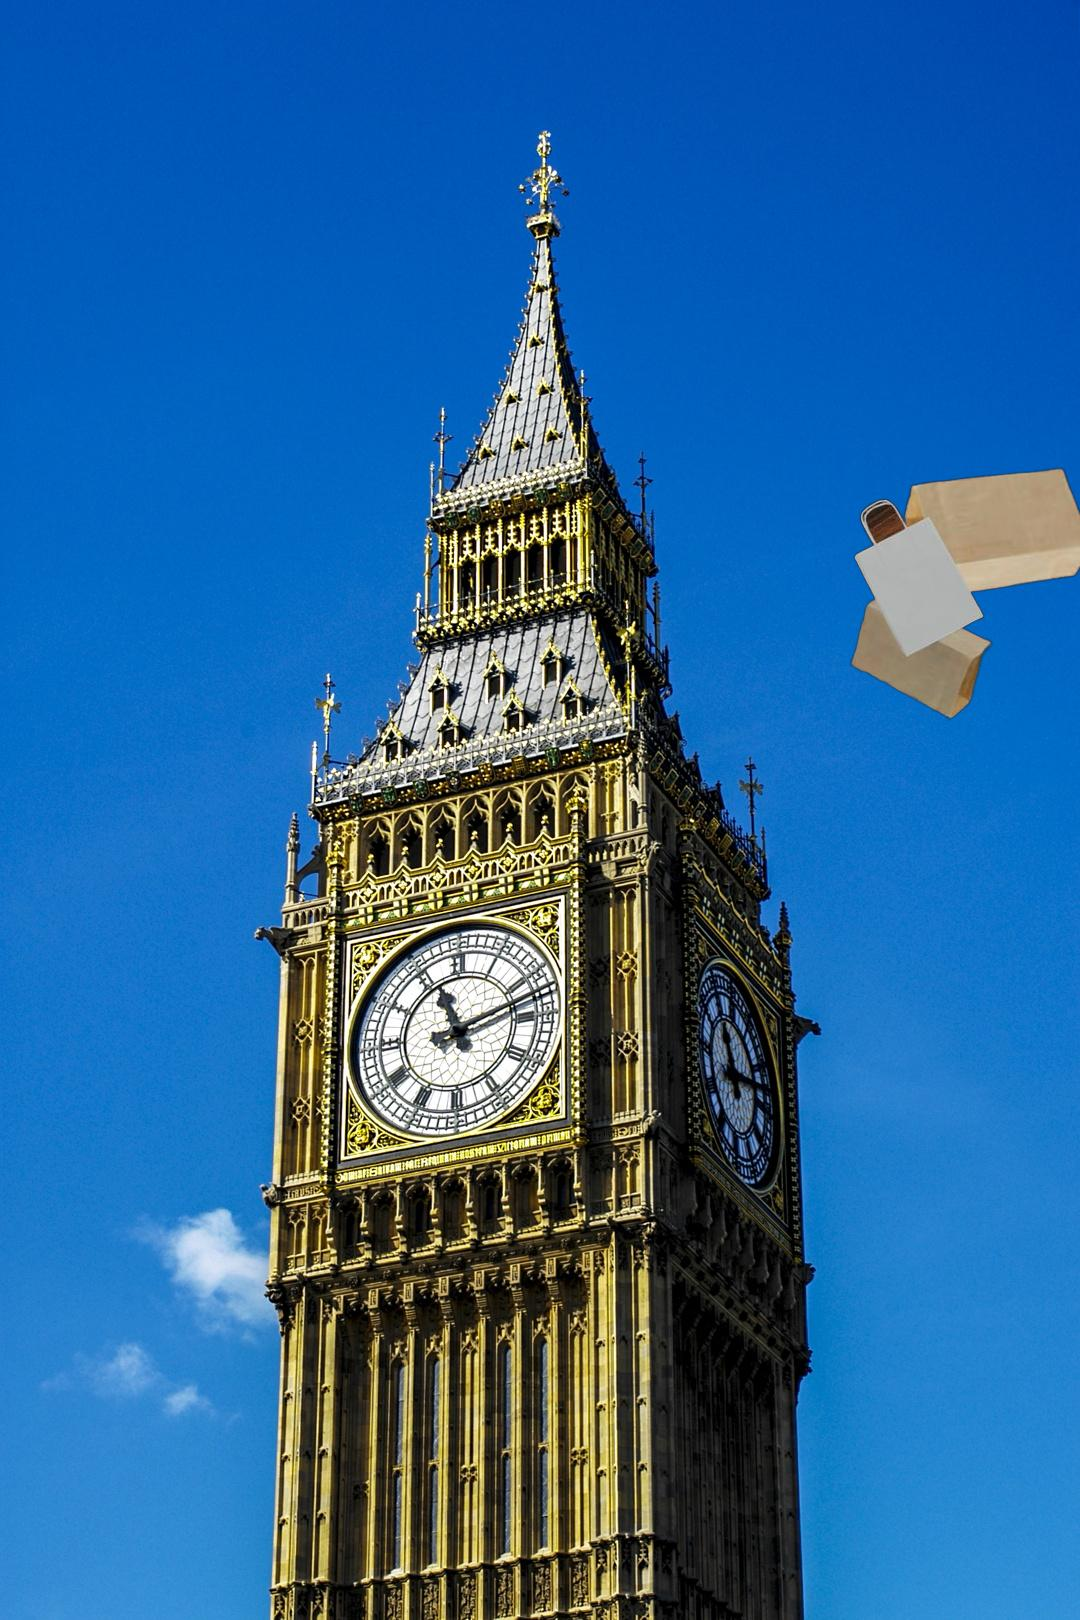paper-bag: (847, 465, 1080, 724)
